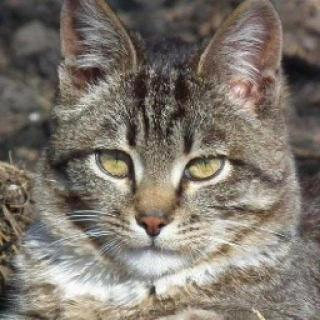cat: (50, 0, 286, 277)
nose: (130, 192, 182, 242)
